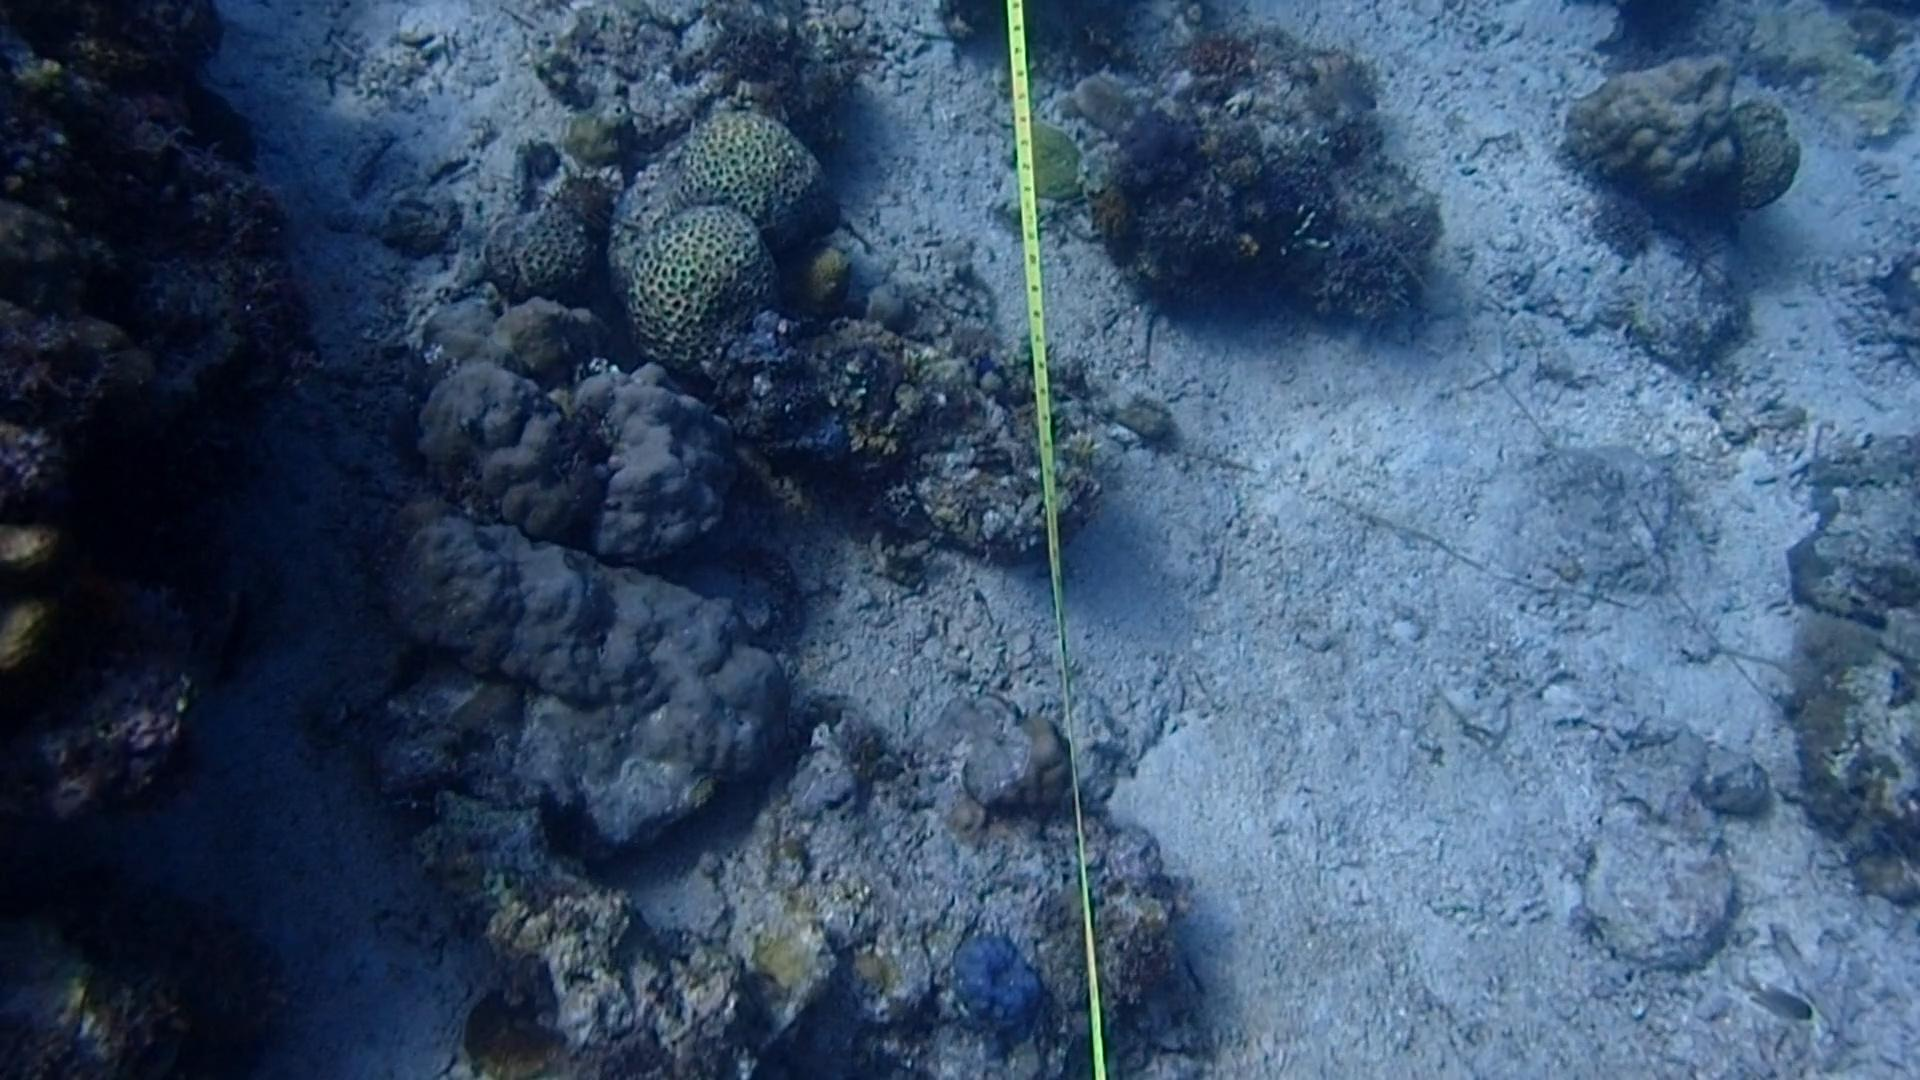Light Fish: (1724, 963, 1822, 1036)
